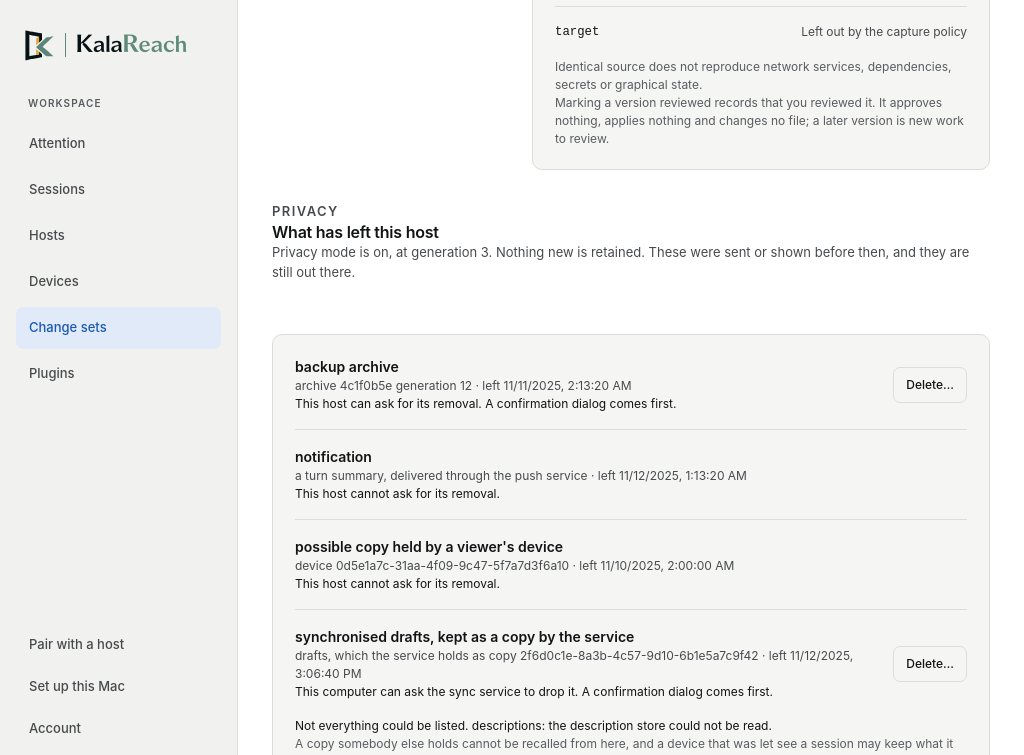
Test: a copy the host can ask the removal of › stays listed, and can be asked again, when the service has not confirmed the deletion
(page scrolled)
Expected: the number of elements with test id "left-copy" is 4, [295,356,967,430]; [295,430,967,520]; [295,520,967,610]; [295,610,967,718]
Step 1. Click the button with aria-label "Delete backup archive" → (930, 385), box [893,367,967,403]
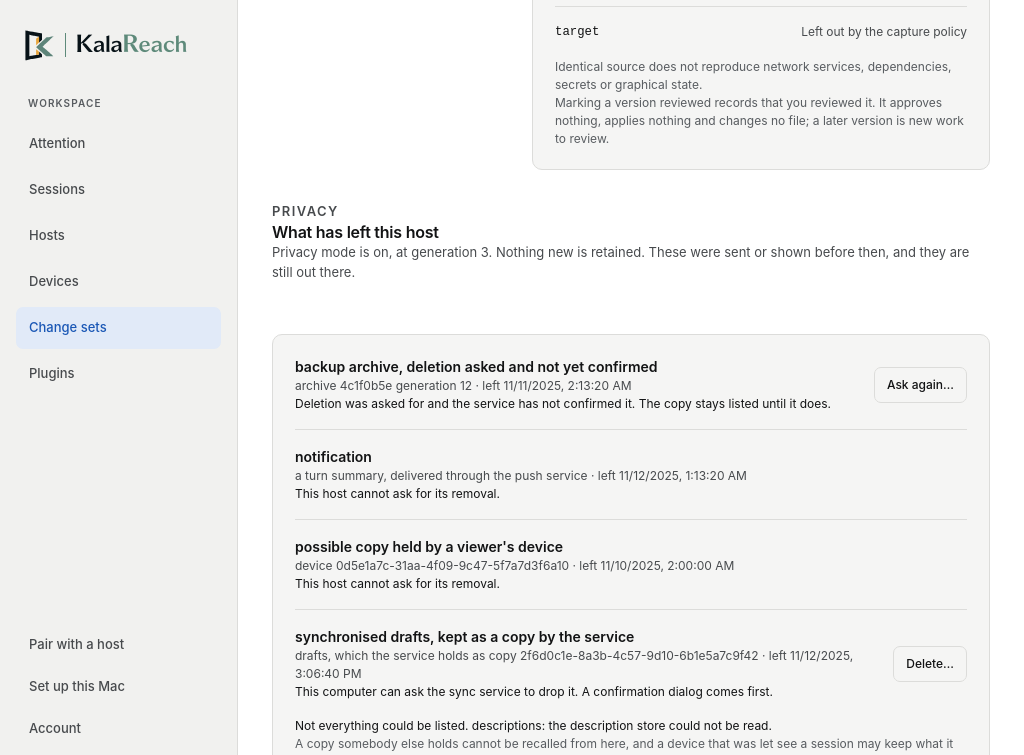
Now the text with test id "removal" shows "the service has not confirmed it", box [295,396,831,412]
Now the button "Ask again…" is shown
Step 2. Click the button "Ask again…" → (920, 385), box [874,367,967,403]
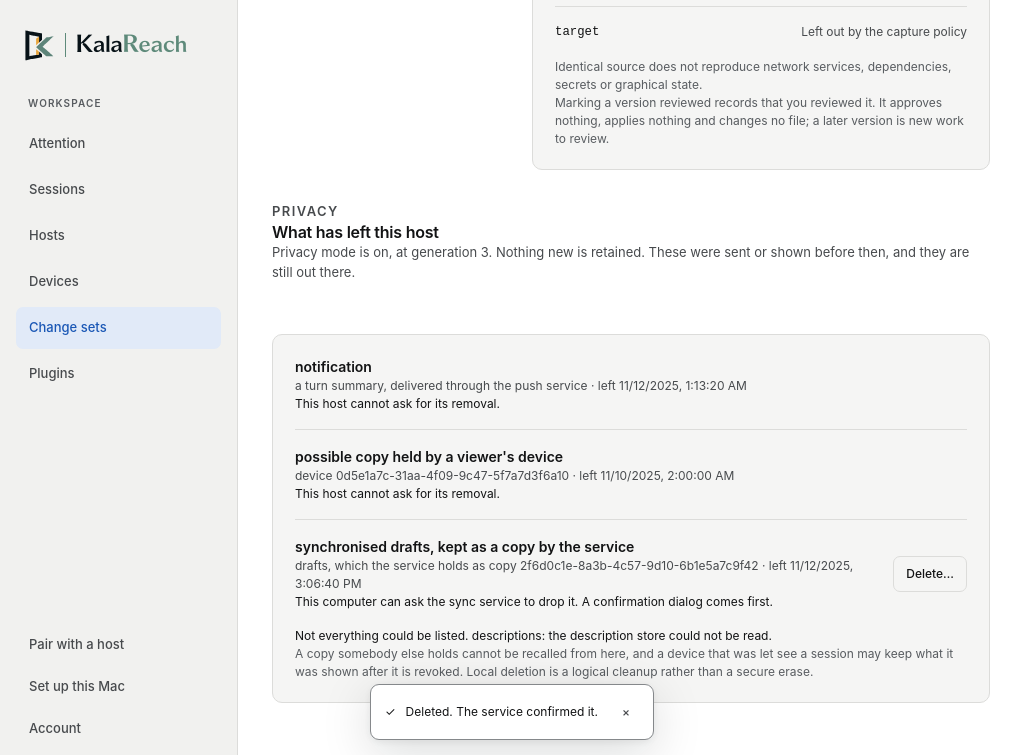
Now the text "archive 4c1f0b5e generation 12" is gone
